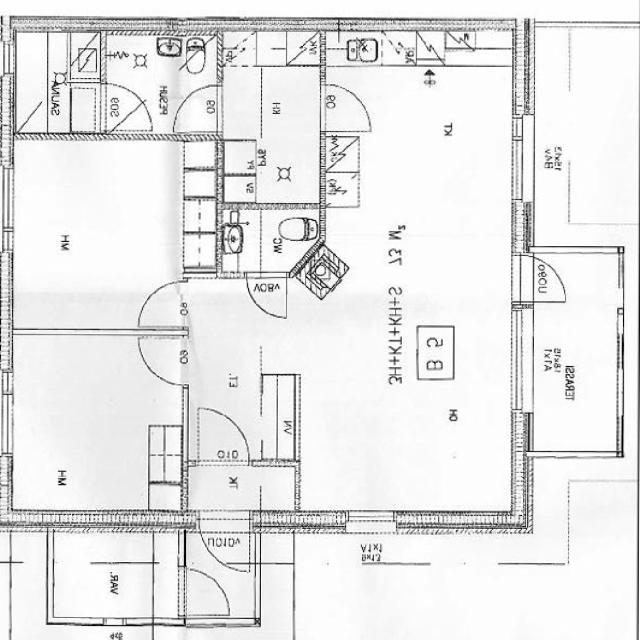door: (200, 511, 250, 585), (198, 408, 250, 467), (513, 257, 578, 303), (136, 338, 190, 386), (180, 570, 232, 617), (138, 281, 189, 328), (101, 83, 152, 130), (172, 86, 223, 132), (320, 85, 370, 131), (247, 272, 286, 320)
